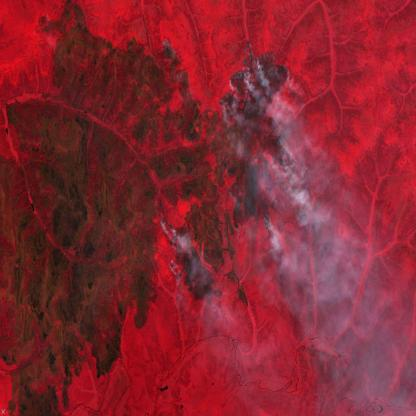fire: (154, 213, 191, 297), (152, 29, 176, 63), (203, 284, 225, 316)
